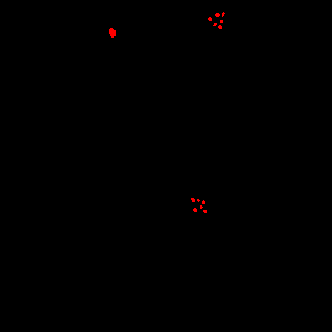Target: (109, 28, 116, 38), (215, 13, 220, 17), (208, 17, 212, 21), (218, 25, 222, 29), (191, 198, 195, 202), (193, 208, 197, 212), (222, 12, 225, 17), (213, 23, 217, 26), (202, 200, 205, 204), (200, 205, 203, 209), (203, 210, 207, 213), (220, 20, 223, 23), (197, 199, 200, 202)
